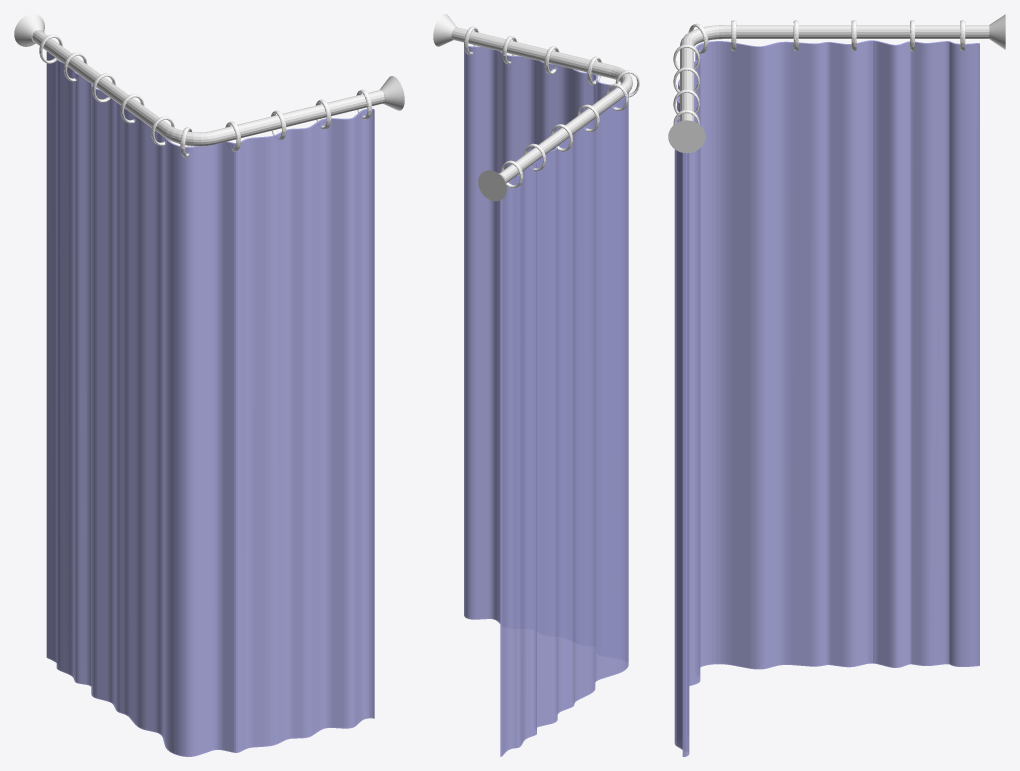
Rendered from sweethome3d-contributions-corner-shower-curtain-492.glb.
3 views of the same model, side by side, from view 1: azimuth 30°, elevation 25°; view 2: azimuth 150°, elevation 25°; view 3: azimuth 270°, elevation 25° (orthographic). The views are drawn at different scales.
Visible parts, largest first — view 1: 1_1, 8_8, 13_13, 14_14; view 2: 1_1, 8_8, 13_13, 14_14, 4_4; view 3: 1_1, 8_8, 13_13, 4_4.
Part boxes in pixels (x1,y1,x2,y2): 1_1: (46, 51, 374, 756); 8_8: (32, 30, 384, 146); 13_13: (39, 34, 371, 157); 14_14: (14, 14, 44, 46); 1_1: (464, 45, 628, 756); 8_8: (451, 27, 632, 182); 13_13: (464, 26, 639, 188); 14_14: (478, 170, 506, 201); 4_4: (433, 14, 456, 46); 1_1: (674, 40, 979, 756); 8_8: (680, 25, 989, 121); 13_13: (673, 20, 965, 124); 4_4: (668, 120, 705, 153).
Size of the model in its own units: 73.59 by 198 by 93.39.
